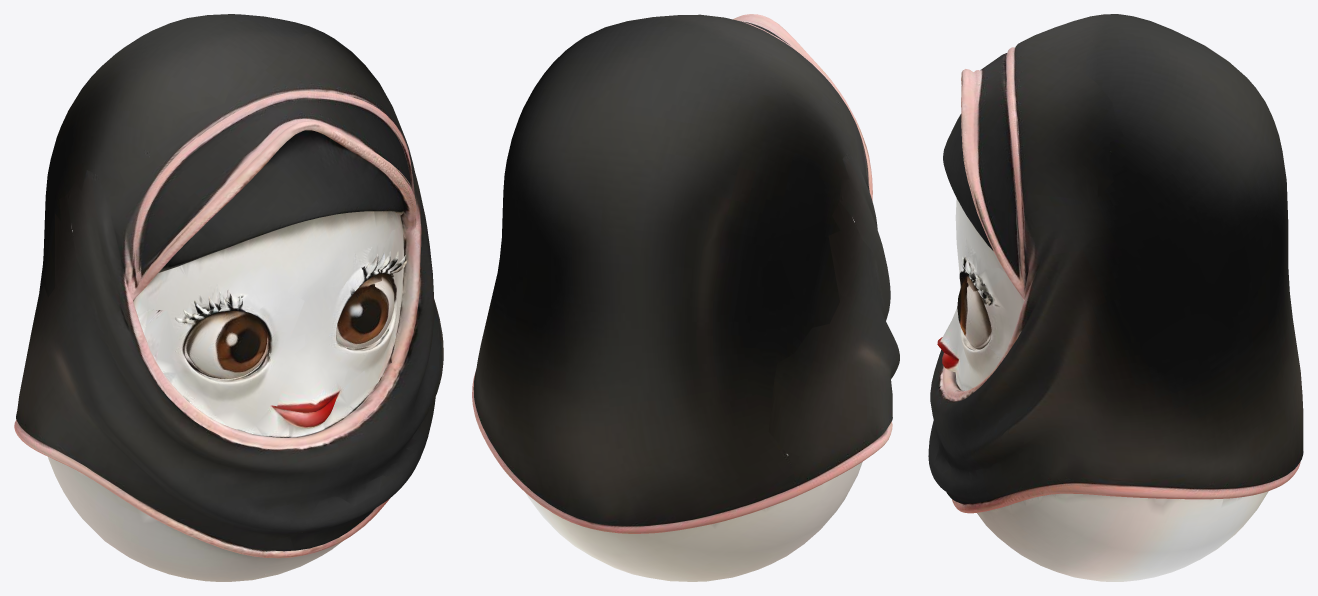
Rendered from woman.glb.
3 renders of one model, left to right at view 1: azimuth 30°, elevation 25°; view 2: azimuth 150°, elevation 25°; view 3: azimuth 270°, elevation 25°, orthographic.
Visible parts, largest first — view 1: model; view 2: model; view 3: model.
Part boxes in pixels (x1=…): model: x1=14, y1=14, x2=443, y2=581; model: x1=472, y1=14, x2=899, y2=581; model: x1=928, y1=14, x2=1303, y2=581.
Bounding box in the file's own units: 1.34 × 1.75 × 1.12.
Materials: 1 (1 with a texture image).
